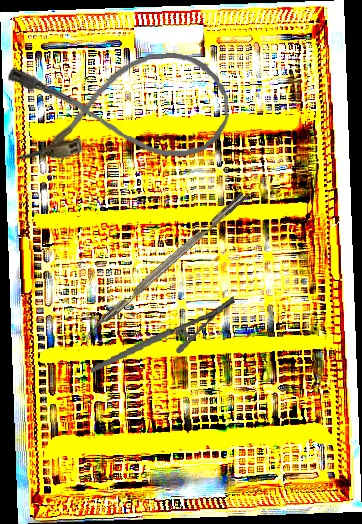Cannula: (7, 50, 232, 165)
Chopper: (77, 192, 254, 350)
Needle Holder: (83, 296, 242, 373)
